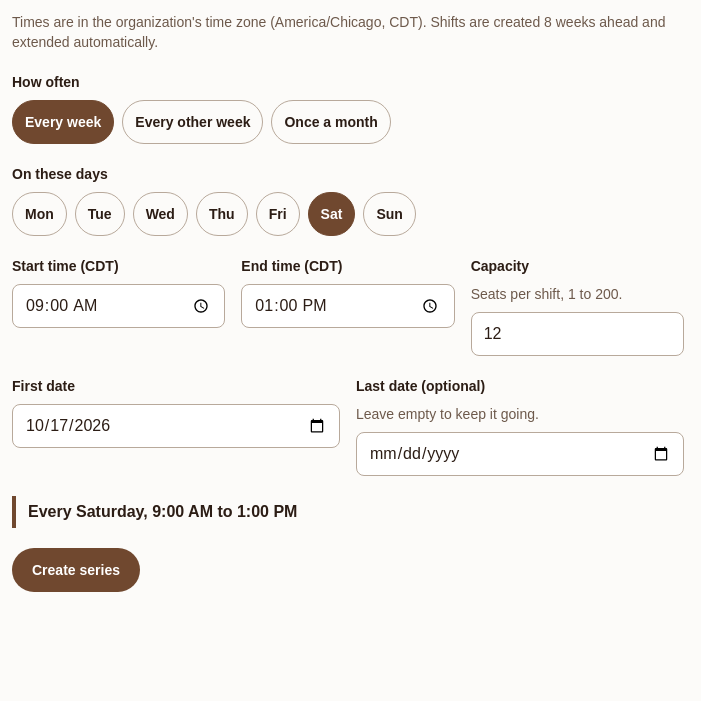
Test: SeriesForm › updates the summary as days and frequency change
Click the checkbox named "Wednesday" at (160, 214), box [133,192,188,236]
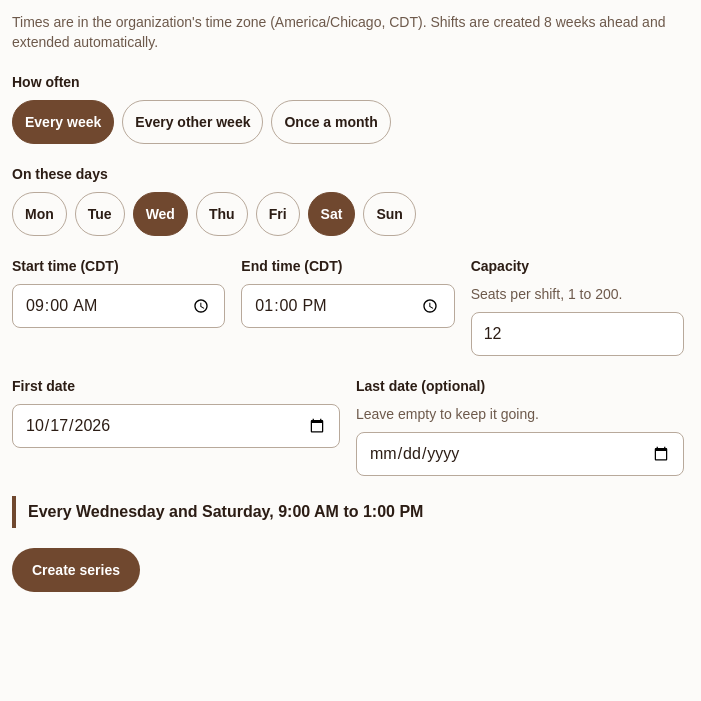
Click the radio button labelled "Every other week" at (193, 122), box [122,100,264,144]
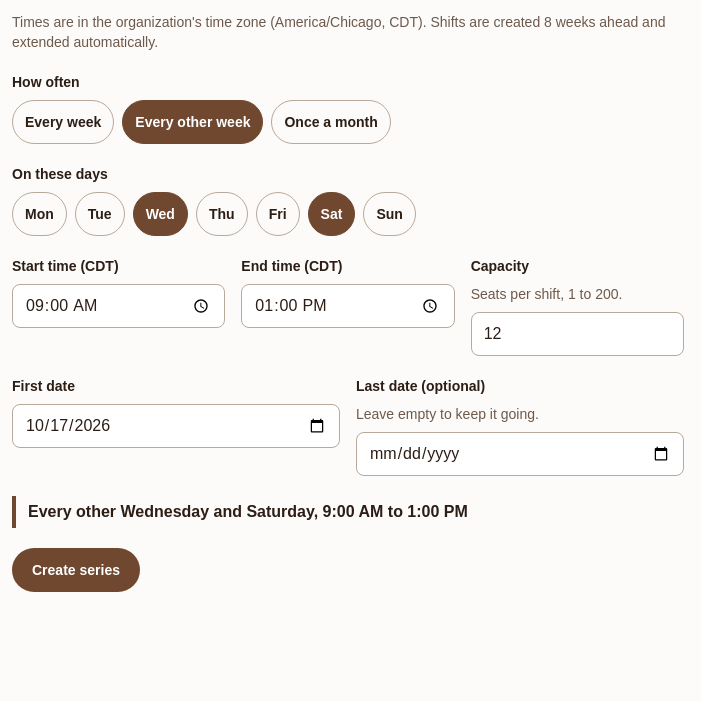
Check: the text "Every other Wednesday and Saturday, 9:00 AM to 1:00 PM" is shown, box [12,496,684,528]
Click the radio button labelled "Once a month" at (331, 122), box [272,100,391,144]
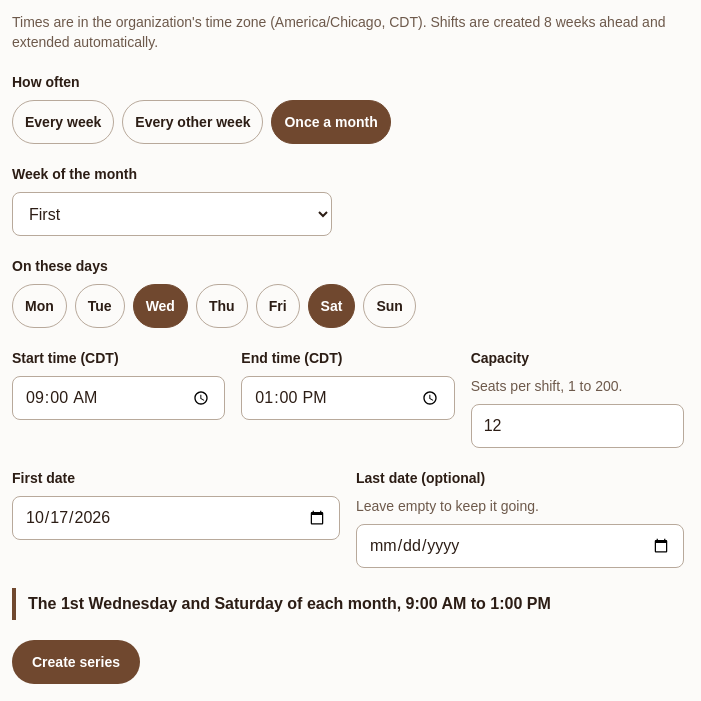
Select "Last" in the dropdown labelled "Week of the month" at (172, 214), box [12,192,332,236]
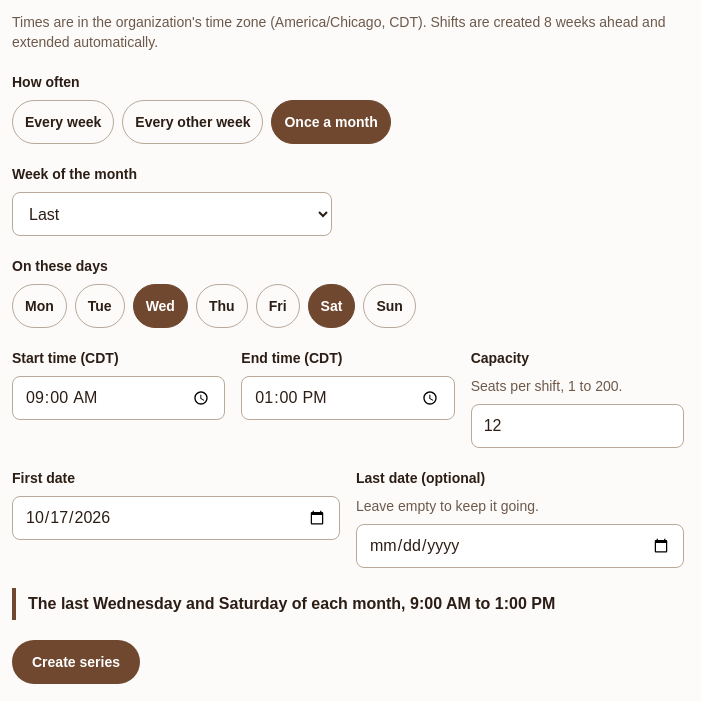
Check: the text "The last Wednesday and Saturday of each month, 9:00 AM to 1:00 PM" is shown, box [12,588,684,620]
